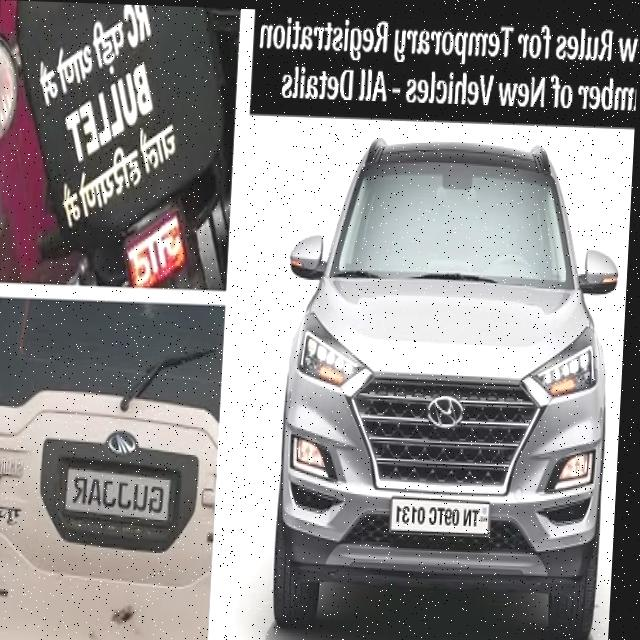plate: (66, 460, 183, 524), (395, 492, 499, 533)
